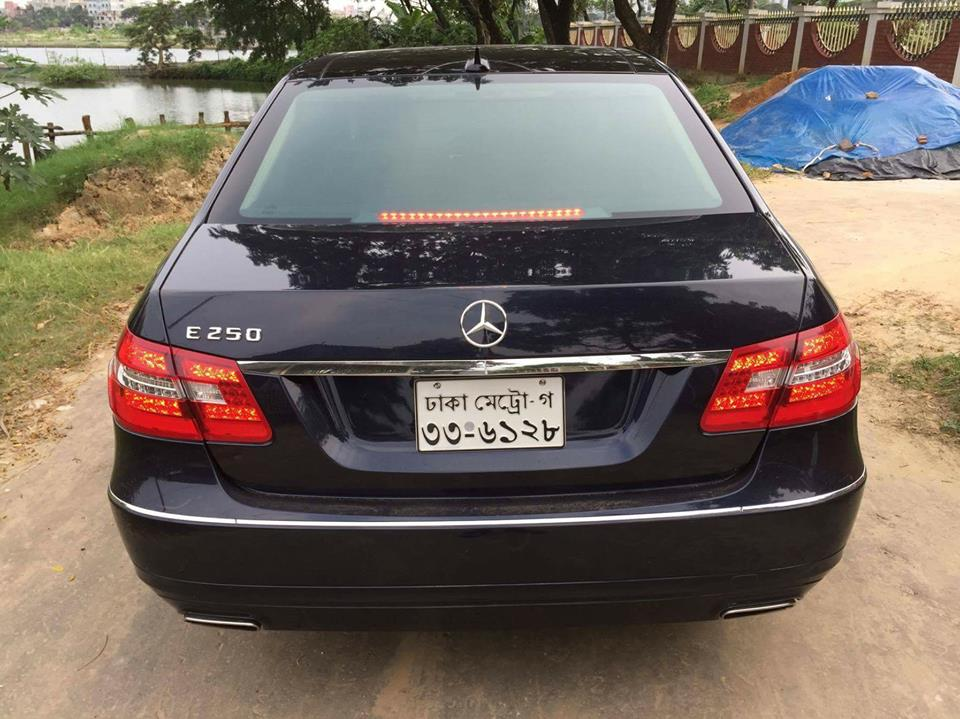registration_plate: (413, 375, 567, 454)
